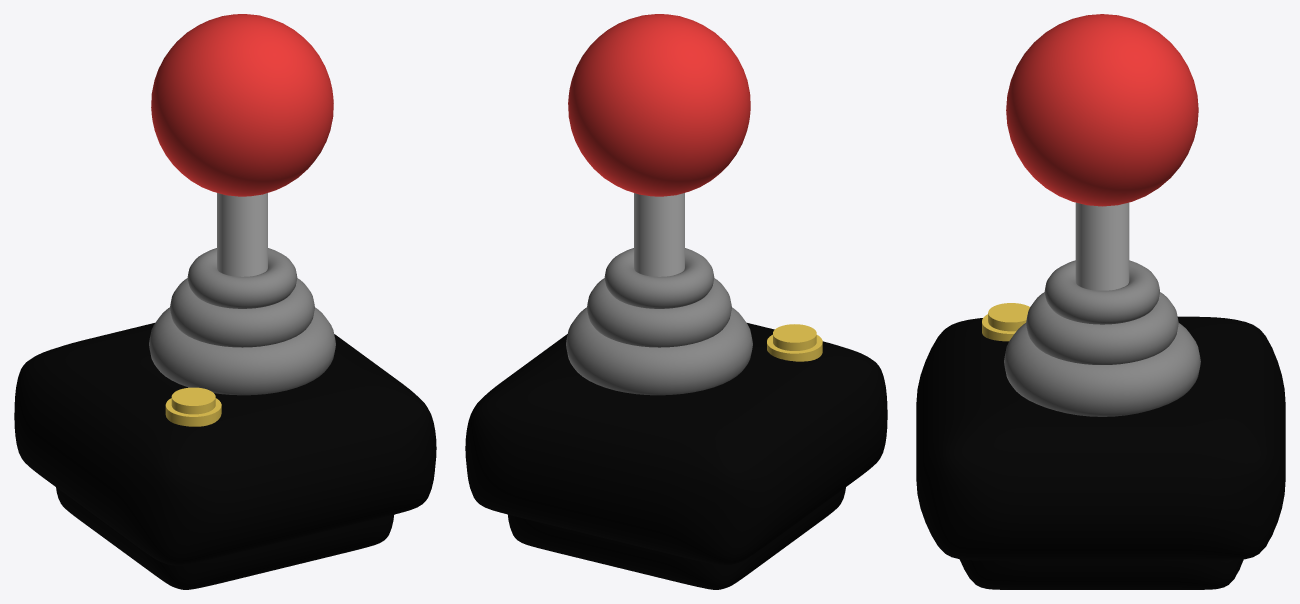
File: game1.glb
3 views of the same model, side by side, from view 1: azimuth 30°, elevation 25°; view 2: azimuth 150°, elevation 25°; view 3: azimuth 270°, elevation 25° (orthographic). The views are drawn at different scales.
Visible parts, largest first — view 1: Torus.005; view 2: Torus.005; view 3: Torus.005.
Boxes of the visible parts, <box> form: Torus.005: <box>14,14,436,589</box>; Torus.005: <box>465,14,887,589</box>; Torus.005: <box>916,14,1285,589</box>.
Bounding box in the file's own units: 0.3306 × 0.5192 × 0.3301.
